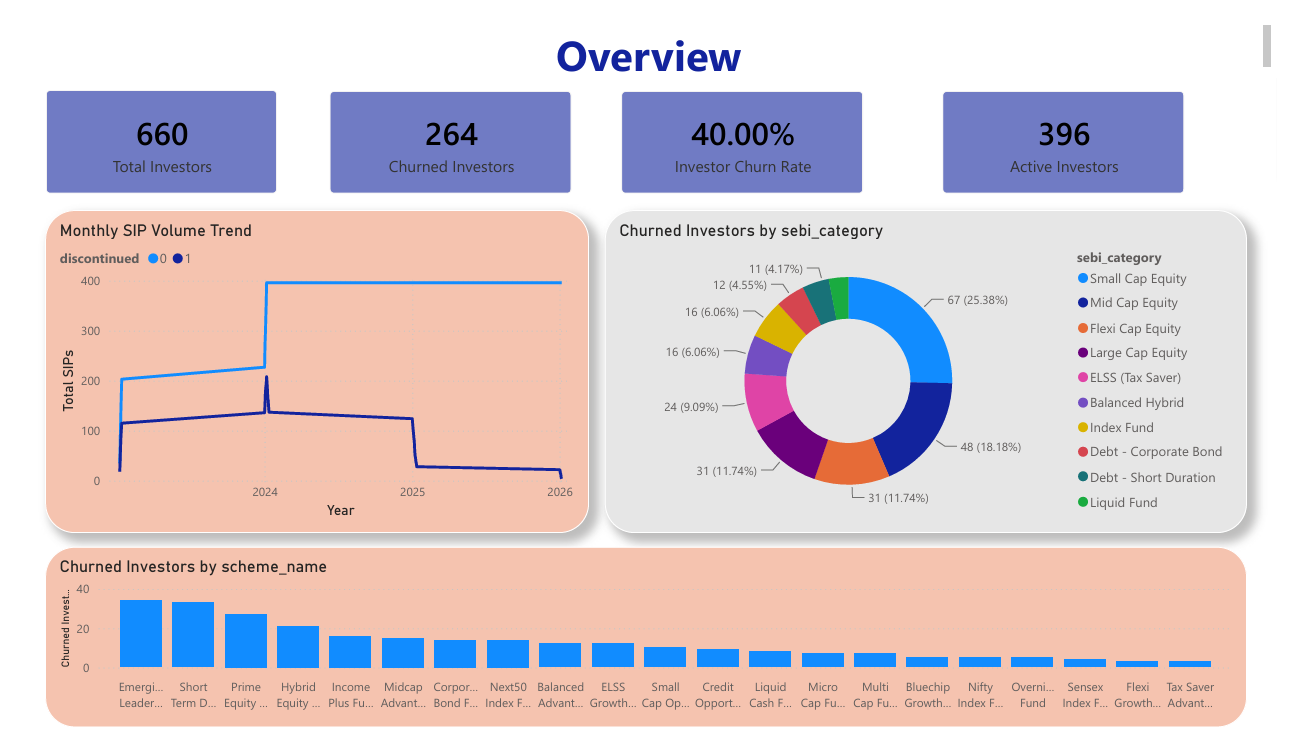

The dashboard page shown, as its layout file describes it:
{"tool":"powerbi","page":{"name":"Overview","canvas":[1280,720],"ordinal":0},"visuals":[{"type":"cardVisual","title":"Total Investor","fields":{"Data":["mf_sip_clean_v2.Total Investors"]},"box":[10,58.5,269.3,134.6],"z":0},{"type":"cardVisual","fields":{"Data":["mf_sip_clean_v2.Churned Investors"]},"box":[298.5,58.5,281,134.6],"z":1000},{"type":"cardVisual","fields":{"Data":["mf_sip_clean_v2.Investor Churn Rate"]},"box":[595.6,58.5,281,134.6],"z":2000},{"type":"cardVisual","fields":{"Data":["mf_sip_clean_v2.Active Investors"]},"box":[923.4,58.5,281,134.6],"z":3000},{"type":"textbox","box":[10.2,0,1270.2,58.5],"z":4000},{"type":"lineChart","title":"Monthly SIP Volume Trend","fields":{"Series":["mf_sip_clean_v2.discontinued"],"Y":["mf_sip_clean_v2.Total SIPs"],"Category":["mf_sip_clean_v2.month_date.Variation.Date Hierarchy.Year","mf_sip_clean_v2.month_date.Variation.Date Hierarchy.Quarter","mf_sip_clean_v2.month_date.Variation.Date Hierarchy.Month","mf_sip_clean_v2.month_date.Variation.Date Hierarchy.Day"]},"box":[26.3,193.2,553.2,329.3],"z":5000},{"type":"donutChart","fields":{"Y":["mf_sip_clean_v2.Churned Investors"],"Category":["mf_sip_clean_v2.sebi_category"]},"box":[595.6,193.2,654.1,329.3],"z":6000},{"type":"clusteredColumnChart","fields":{"Category":["mf_sip_clean_v2.scheme_name"],"Y":["mf_sip_clean_v2.Churned Investors"]},"box":[26.3,535.6,1223.4,184.4],"z":7000}]}

Visuals, with their boxes in screenshot pixels (x1, y1, x2, y2), scaled from the page's 1280x720 canvas onto the 1296x744 screenshot:
"Total Investor" cardVisual: 10 60 283 200
cardVisual - mf_sip_clean_v2.Churned Investors: 302 60 587 200
cardVisual - mf_sip_clean_v2.Investor Churn Rate: 603 60 888 200
cardVisual - mf_sip_clean_v2.Active Investors: 935 60 1219 200
textbox: 10 0 1295 60
"Monthly SIP Volume Trend" lineChart: 27 200 587 540
donutChart - mf_sip_clean_v2.Churned Investors x mf_sip_clean_v2.sebi_category: 603 200 1265 540
clusteredColumnChart - mf_sip_clean_v2.scheme_name x mf_sip_clean_v2.Churned Investors: 27 553 1265 743
